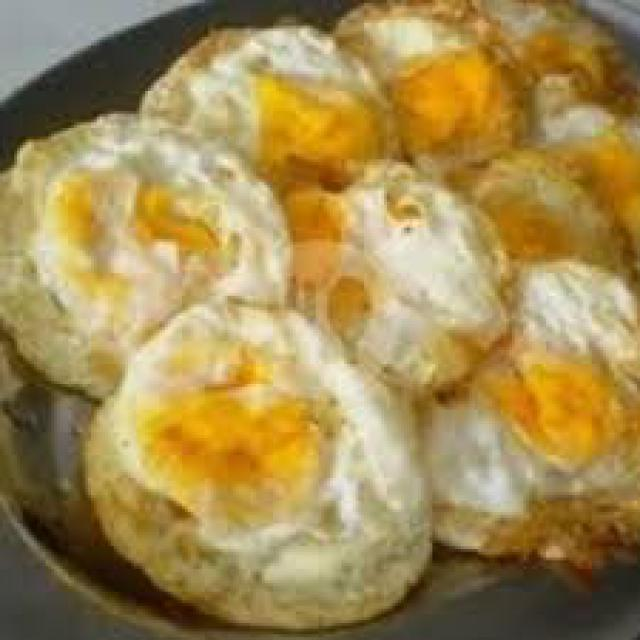Fried Egg: (101, 300, 432, 623), (440, 256, 639, 565), (148, 23, 394, 256)
